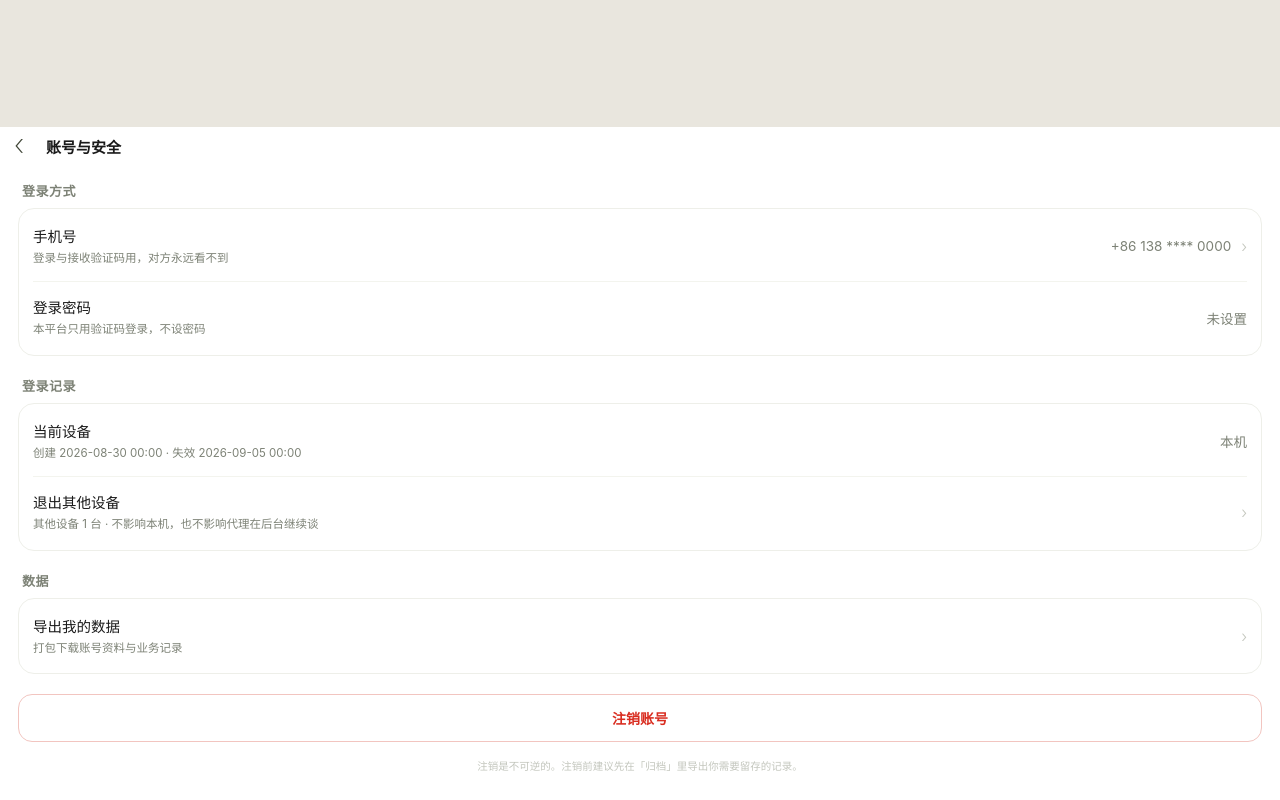
it: 账号安全 · Backend 接线 › 退出其他设备走真实操作并显示回执计数，不弹本地假成功
The width and height of the screenshot is (1280, 800).
(page scrolled)
What coordinates should you click on to do the following:
click the button "退出其他设备 其他设备 1 台 · 不影响本机，也不影响代理在后台继续谈 ›"
I would click on:
 (76, 503)
Its box is [33,477,1247,548].
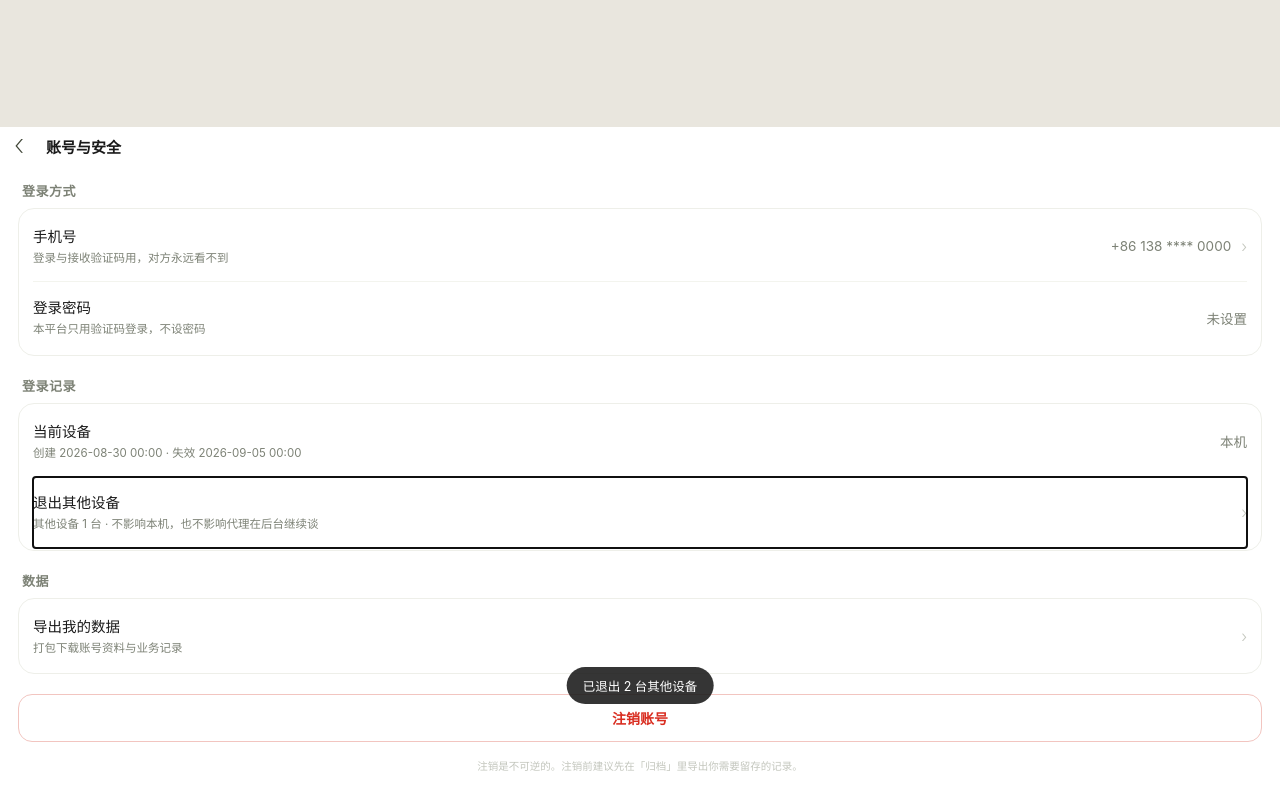
Now the text "已退出 2 台其他设备" is shown, box [567,667,713,704]
